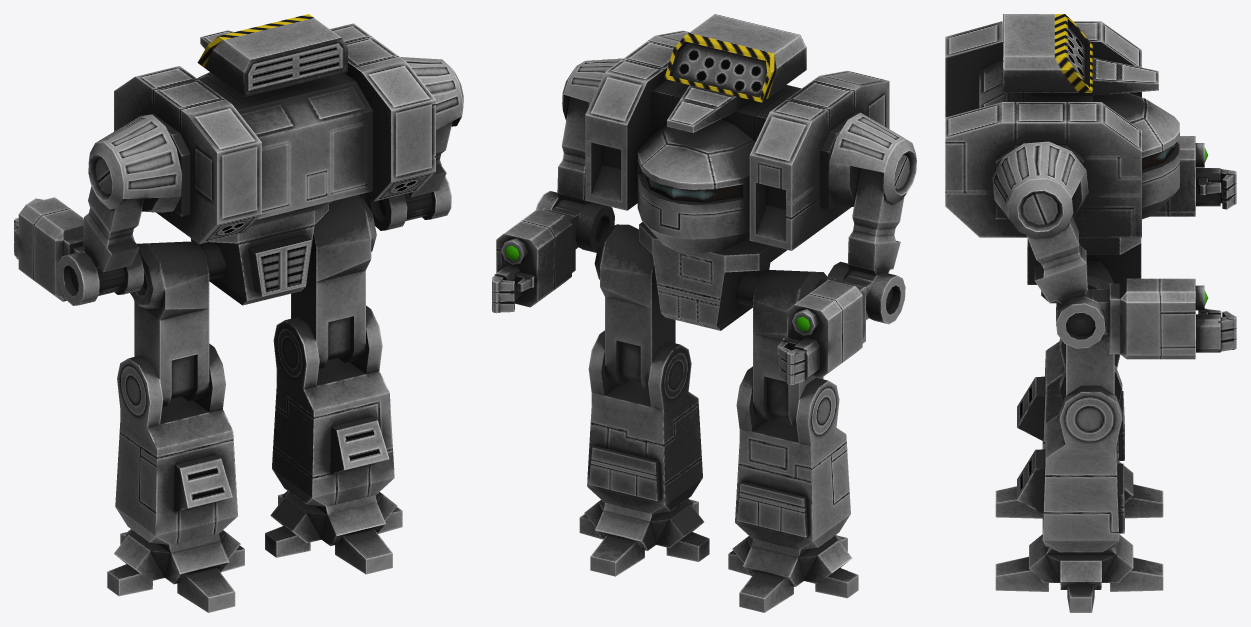
The model's file is DuanGung.FBX.
3 renders of one model, left to right at view 1: azimuth 30°, elevation 25°; view 2: azimuth 150°, elevation 25°; view 3: azimuth 270°, elevation 25°, orthographic. The views are drawn at different scales.
Visible parts, largest first — view 1: torso, rlowerleg, llowerleg, lupperarm, lupperleg, rupperleg, pelvis, llowerarm, rupperarm, lfoot, rfoot, lbacktoe (+4 smaller); view 2: torso, llowerleg, rlowerleg, lupperarm, rupperleg, pelvis, lupperleg, rupperarm, rlowerarm, llowerarm, lfoot, rfoot (+6 smaller); view 3: torso, rlowerleg, rupperarm, rlowerarm, rfoot, llowerleg, rupperleg, pelvis, llowerarm, rhand, lhand, rbacktoe (+4 smaller).
Boxes of the visible parts, x1,y1,x2,y2 form: torso: (114, 14, 435, 243); rlowerleg: (272, 305, 394, 506); llowerleg: (115, 343, 237, 544); lupperarm: (57, 114, 182, 305); lupperleg: (130, 241, 209, 407); rupperleg: (291, 195, 376, 369); pelvis: (190, 204, 328, 305); llowerarm: (18, 197, 124, 301); rupperarm: (365, 57, 463, 230); lfoot: (114, 529, 240, 584); rfoot: (270, 491, 397, 545); lbacktoe: (177, 568, 235, 612); torso: (585, 14, 889, 253); llowerleg: (735, 366, 850, 549); rlowerleg: (587, 330, 702, 513); lupperarm: (826, 112, 916, 324); rupperleg: (594, 224, 675, 390); pelvis: (639, 222, 786, 330); lupperleg: (753, 270, 827, 426); rupperarm: (536, 58, 622, 252); rlowerarm: (496, 199, 584, 307); llowerarm: (787, 270, 875, 378); lfoot: (732, 535, 852, 586); rfoot: (584, 498, 704, 550); torso: (945, 14, 1179, 237); rlowerleg: (1017, 366, 1124, 552); rupperarm: (992, 141, 1105, 348); rlowerarm: (1060, 278, 1208, 359); rfoot: (1029, 534, 1133, 589); llowerleg: (1017, 338, 1124, 463); rupperleg: (1056, 262, 1114, 395); pelvis: (1027, 237, 1141, 303); llowerarm: (1151, 136, 1208, 216); rhand: (1196, 308, 1236, 352); lhand: (1196, 168, 1236, 209); rbacktoe: (995, 556, 1048, 591).
Bounding box in the file's own units: 31.97 × 44.72 × 23.06.
1 material, 1 textured.
